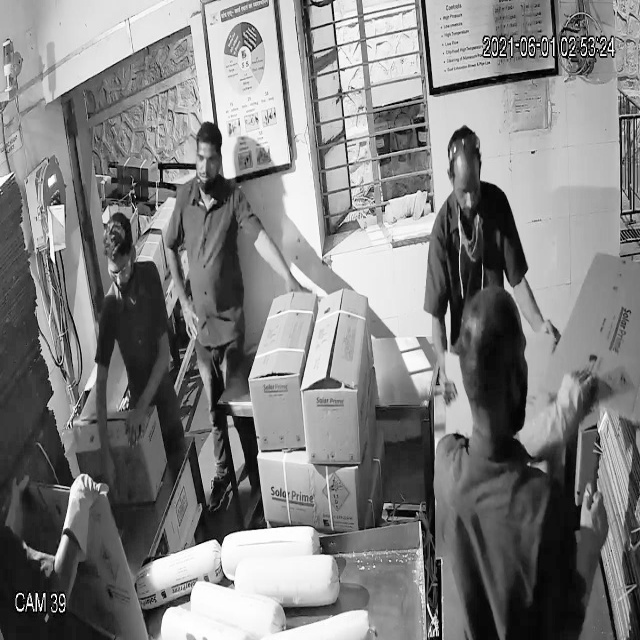Gafas: (102, 245, 137, 291)
Sin_gafas: (188, 144, 227, 177)
